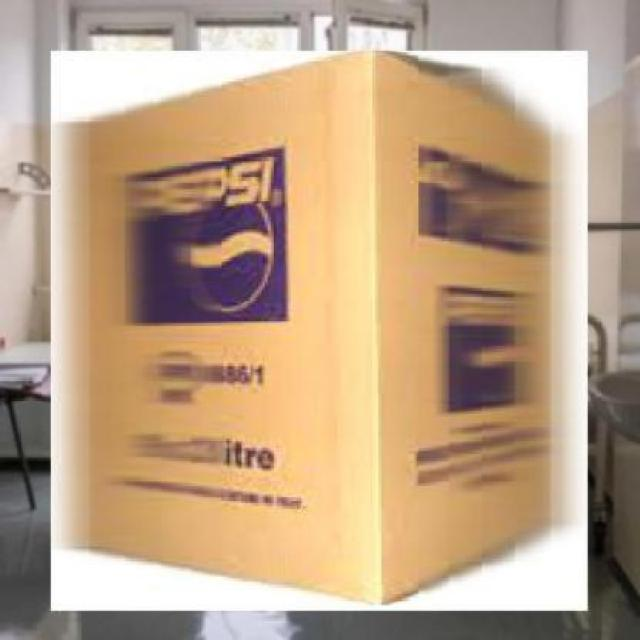box: (43, 43, 597, 620)
